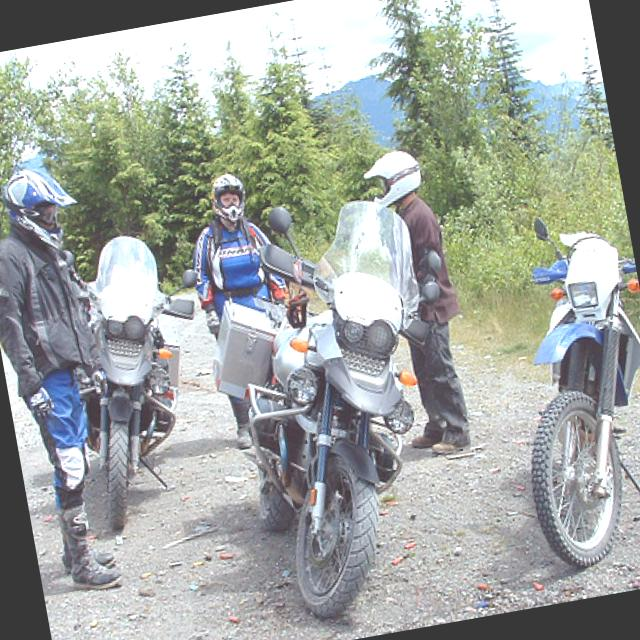Vehicle: (193, 186, 495, 640), (484, 197, 640, 574), (51, 222, 238, 533)
